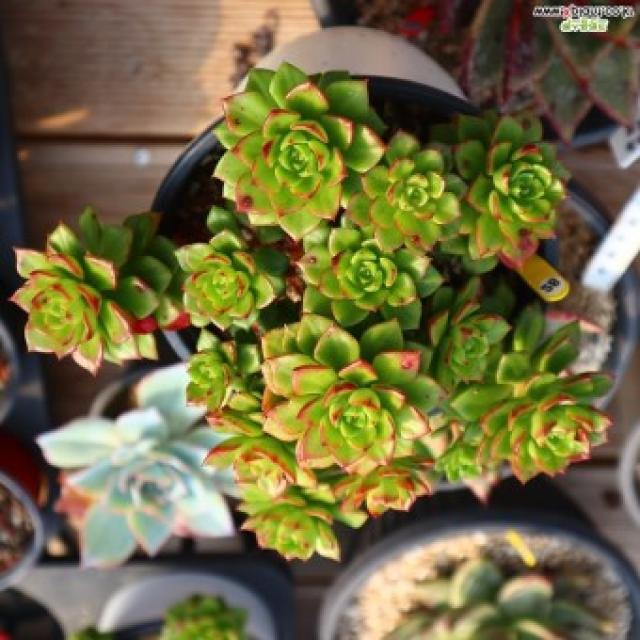Letizia: (215, 64, 386, 239), (261, 314, 444, 472), (454, 324, 610, 481), (11, 211, 159, 374), (454, 114, 569, 268), (302, 218, 444, 330), (176, 207, 288, 329), (240, 484, 366, 560)
